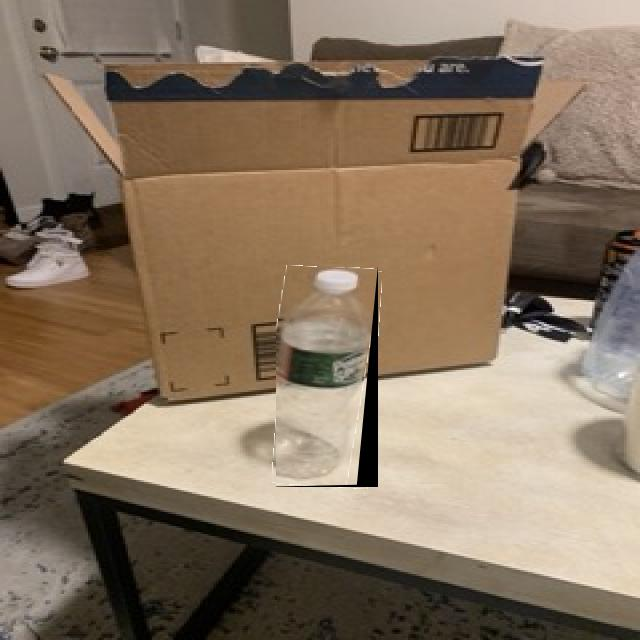water_bottle: (276, 267, 378, 487)
